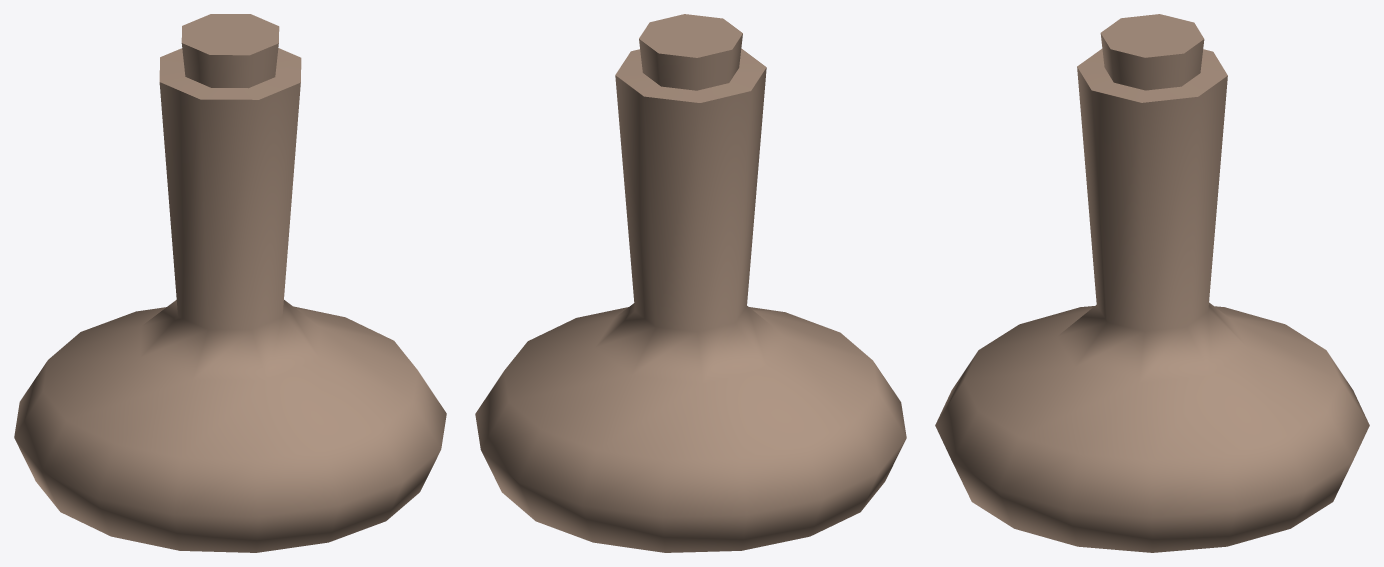
Rendered from Prop_Sm_SmallContainer_5_A.fbx.
The picture shows the model from 3 angles, left to right: view 1: azimuth 30°, elevation 25°; view 2: azimuth 150°, elevation 25°; view 3: azimuth 270°, elevation 25°; orthographic projection.
Visible parts, largest first — view 1: pSphere43; view 2: pSphere43; view 3: pSphere43.
Part boxes in pixels (box(x1,y1,x2,y2)): pSphere43: box(14, 14, 446, 552); pSphere43: box(475, 14, 906, 552); pSphere43: box(935, 14, 1369, 552).
Size of the model in its own units: 0.2626 by 0.3114 by 0.2626.
